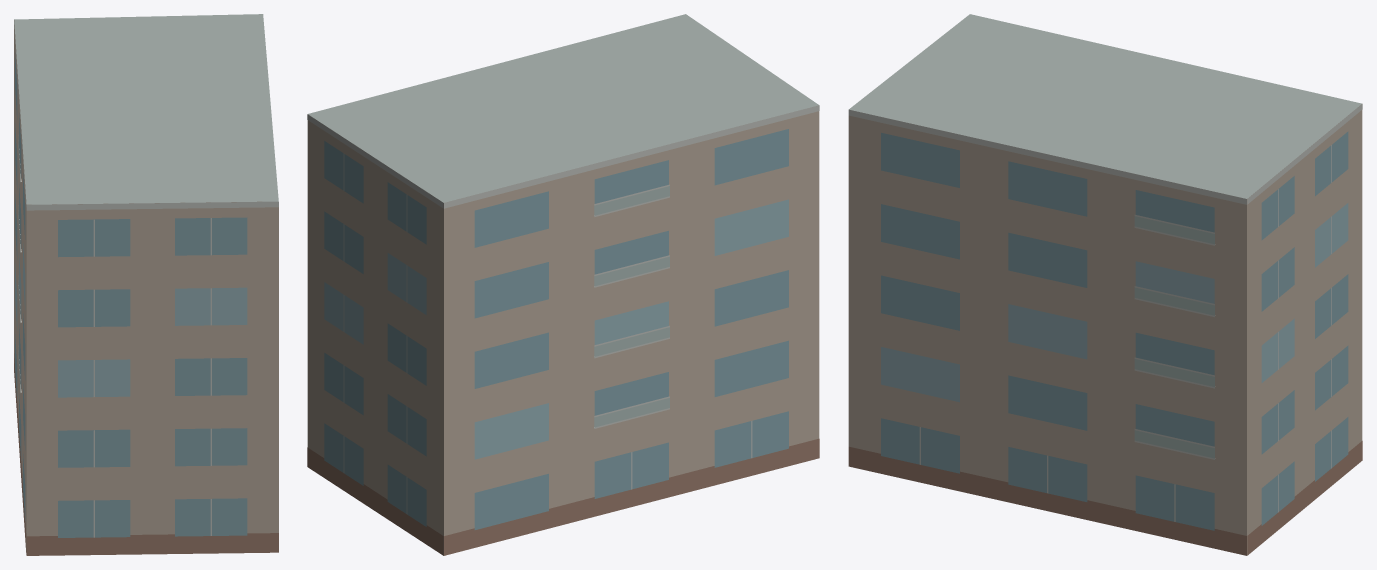
The model's file is survey-upis-32657336.glb.
3 renders of one model, left to right at view 1: azimuth 30°, elevation 25°; view 2: azimuth 150°, elevation 25°; view 3: azimuth 270°, elevation 25°, orthographic.
Parts seen in each view (by area): view 1: survey-upis-32657336.tmp; view 2: survey-upis-32657336.tmp; view 3: survey-upis-32657336.tmp.
Part boxes in pixels (left/top/right/bottom): survey-upis-32657336.tmp: left=14, top=14, right=278, bottom=555; survey-upis-32657336.tmp: left=307, top=14, right=819, bottom=555; survey-upis-32657336.tmp: left=848, top=14, right=1362, bottom=555.
Size of the model in its own units: 16.43 by 14.77 by 19.29.
